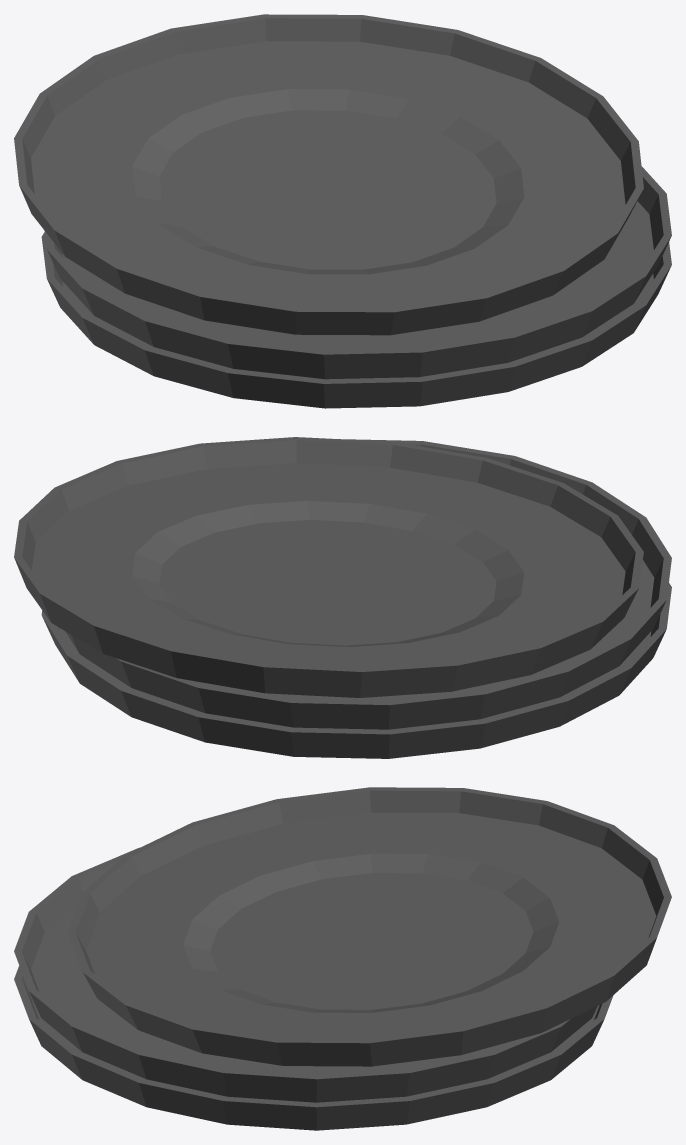
Rendered from 527 Coasters.obj.
3 renders of one model, top to bottom at view 1: azimuth 30°, elevation 25°; view 2: azimuth 150°, elevation 25°; view 3: azimuth 270°, elevation 25°, orthographic. The views are drawn at different scales.
Visible parts, largest first — view 1: Coasters; view 2: Coasters; view 3: Coasters.
Part boxes in pixels (x1,y1,x2,y2): Coasters: (14, 14, 671, 408); Coasters: (14, 437, 671, 758); Coasters: (14, 787, 671, 1130).
Bounding box in the file's own units: 46.73 × 9.47 × 50.78.
1 material, 1 textured.
